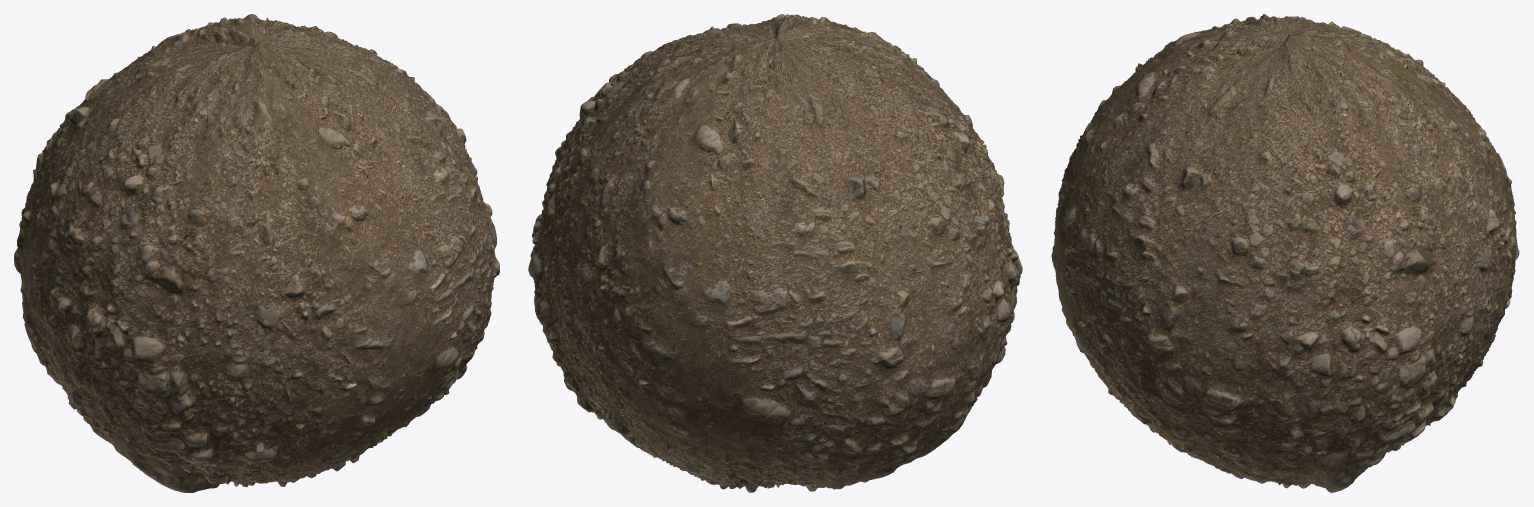
Rendered from forest_ground_04_1k.gltf.
The picture shows the model from 3 angles, left to right: view 1: azimuth 30°, elevation 25°; view 2: azimuth 150°, elevation 25°; view 3: azimuth 270°, elevation 25°; orthographic projection. The views are drawn at different scales.
Visible parts, largest first — view 1: sphere_gltf; view 2: sphere_gltf; view 3: sphere_gltf.
Part boxes in pixels (left/top/right/bottom): sphere_gltf: left=14, top=14, right=499, bottom=492; sphere_gltf: left=528, top=14, right=1022, bottom=492; sphere_gltf: left=1051, top=14, right=1519, bottom=492.
Size of the model in its own units: 3.26 by 3.16 by 3.14.
